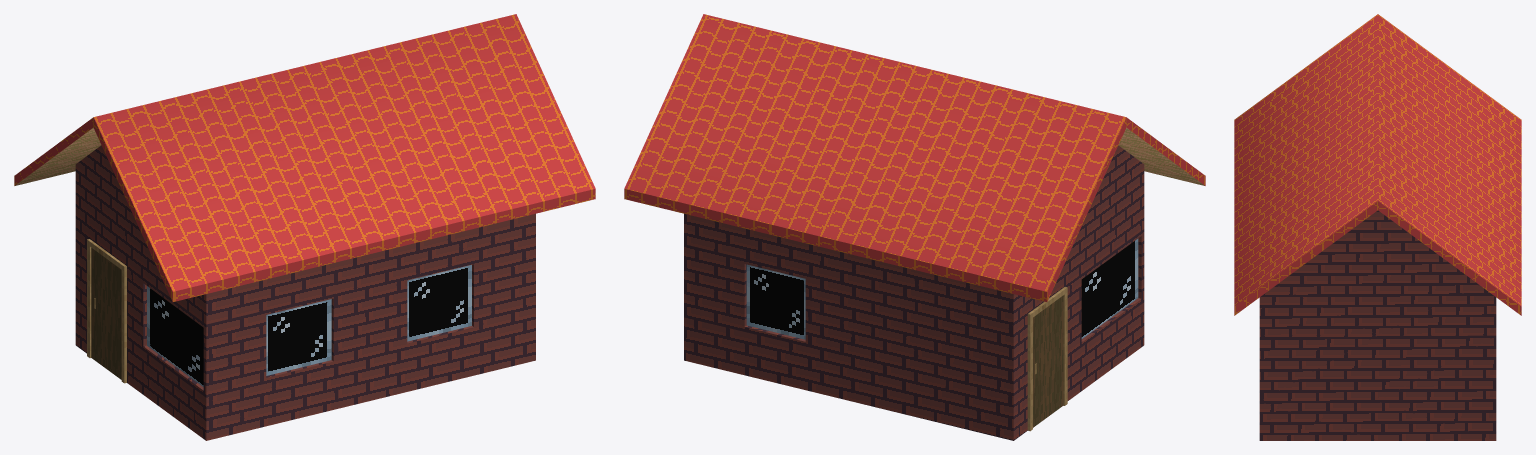
File: Casa3.fbx
3 views of the same model, side by side, from view 1: azimuth 30°, elevation 25°; view 2: azimuth 150°, elevation 25°; view 3: azimuth 270°, elevation 25° (orthographic). The views are drawn at different scales.
Visible parts, largest first — view 1: telhado, Box002, Box005, Box006, Box004, Box003; view 2: telhado, Box002, Box007, Box004, Box003; view 3: telhado, Box002.
Boxes of the visible parts, left/top/right/bottom form: telhado: left=14, top=14, right=595, bottom=301; Box002: left=75, top=145, right=535, bottom=440; Box005: left=266, top=299, right=331, bottom=375; Box006: left=407, top=265, right=471, bottom=341; Box004: left=147, top=286, right=203, bottom=386; Box003: left=91, top=248, right=121, bottom=379; telhado: left=624, top=14, right=1205, bottom=301; Box002: left=684, top=145, right=1144, bottom=440; Box007: left=746, top=264, right=805, bottom=339; Box004: left=1081, top=238, right=1138, bottom=338; Box003: left=1033, top=296, right=1063, bottom=427; telhado: left=1234, top=14, right=1521, bottom=315; Box002: left=1259, top=210, right=1496, bottom=440.
Bounding box in the file's own units: 934 × 607 × 606.
6 materials, 6 textured.
